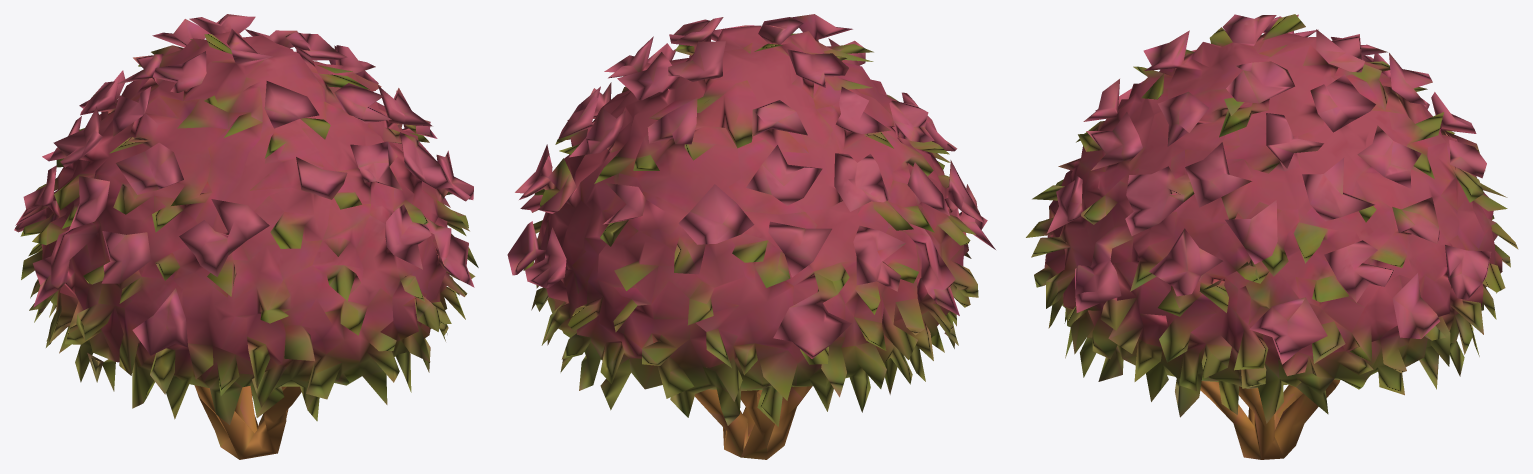
The model's file is bougain.glb.
3 views of the same model, side by side, from view 1: azimuth 30°, elevation 25°; view 2: azimuth 150°, elevation 25°; view 3: azimuth 270°, elevation 25° (orthographic). The views are drawn at different scales.
Visible parts, largest first — view 1: tripo_node_bc49fd87-4bde-49da-8a6c-c4db77d4e2f1; view 2: tripo_node_bc49fd87-4bde-49da-8a6c-c4db77d4e2f1; view 3: tripo_node_bc49fd87-4bde-49da-8a6c-c4db77d4e2f1.
Part boxes in pixels (x1,y1,x2,y2): tripo_node_bc49fd87-4bde-49da-8a6c-c4db77d4e2f1: (14, 14, 478, 459); tripo_node_bc49fd87-4bde-49da-8a6c-c4db77d4e2f1: (507, 14, 995, 459); tripo_node_bc49fd87-4bde-49da-8a6c-c4db77d4e2f1: (1026, 14, 1518, 459).
Bounding box in the file's own units: 0.9939 × 0.9568 × 1.
Materials: 1 (1 with a texture image).
